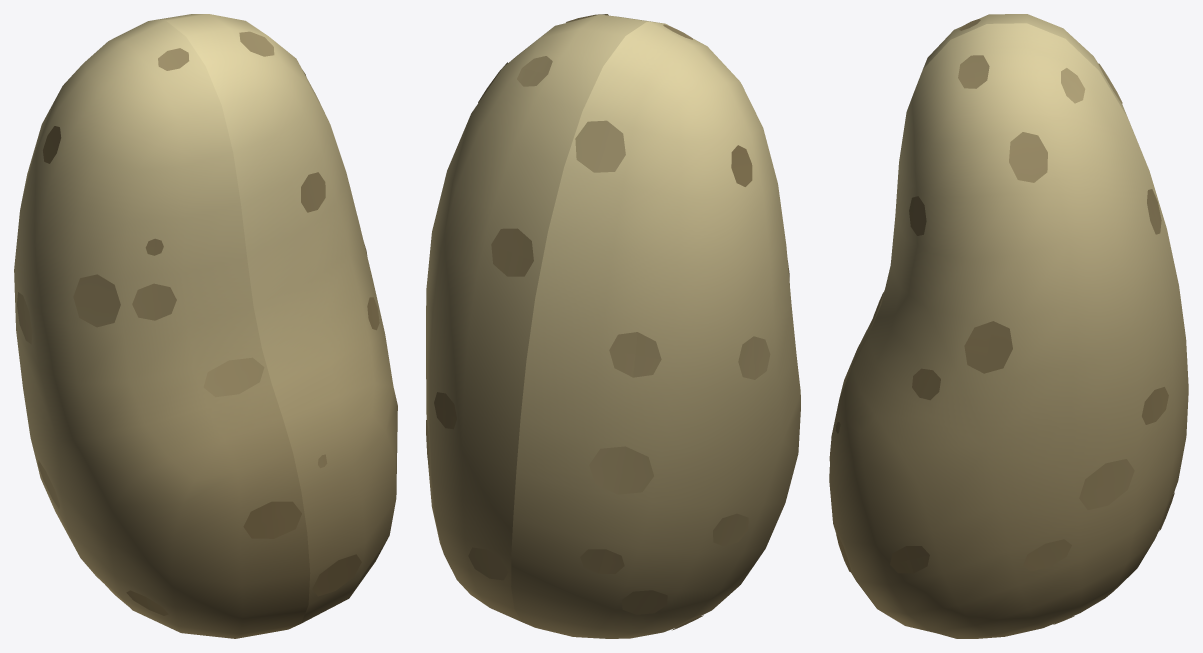
Rendered from 3D_Items_Potatoes.fbx.
The picture shows the model from 3 angles, left to right: view 1: azimuth 30°, elevation 25°; view 2: azimuth 150°, elevation 25°; view 3: azimuth 270°, elevation 25°; orthographic projection. The views are drawn at different scales.
Parts seen in each view (by area): view 1: 3D_Items_Potatoes; view 2: 3D_Items_Potatoes; view 3: 3D_Items_Potatoes.
Boxes of the visible parts, x1,y1,x2,y2 form: 3D_Items_Potatoes: [14, 14, 397, 638]; 3D_Items_Potatoes: [426, 14, 800, 638]; 3D_Items_Potatoes: [829, 14, 1188, 638].
Bounding box in the file's own units: 58.82 × 102 × 58.04.
